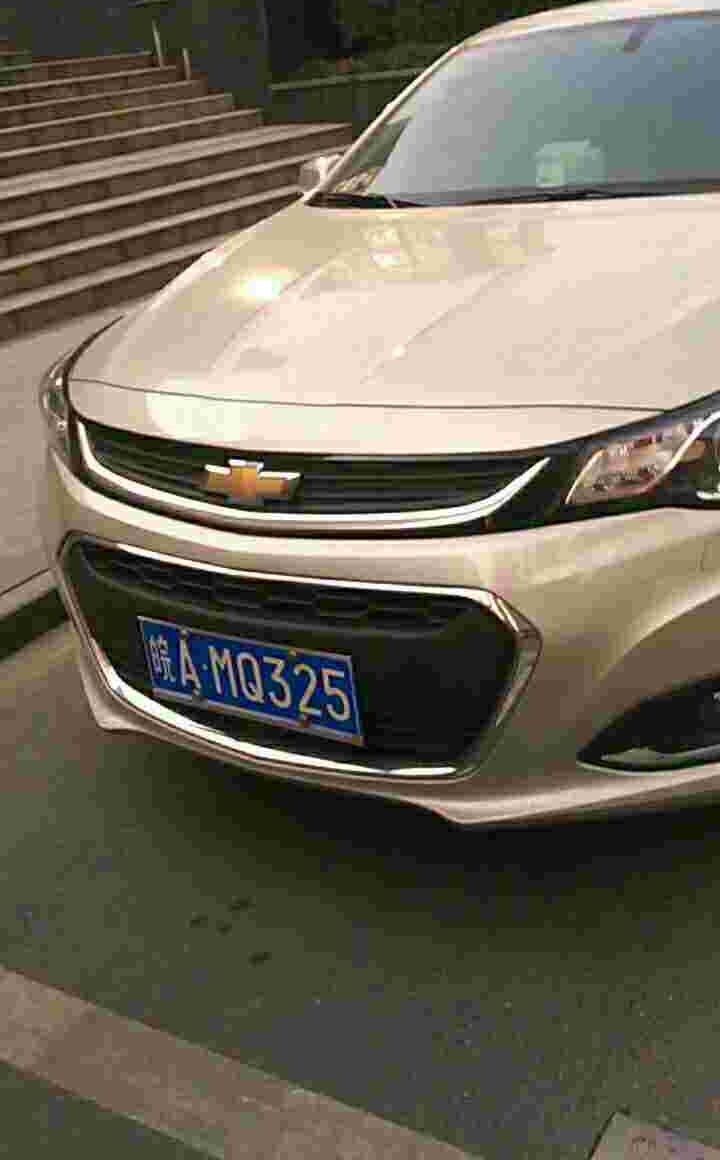license_plate: (144, 620, 372, 744)
